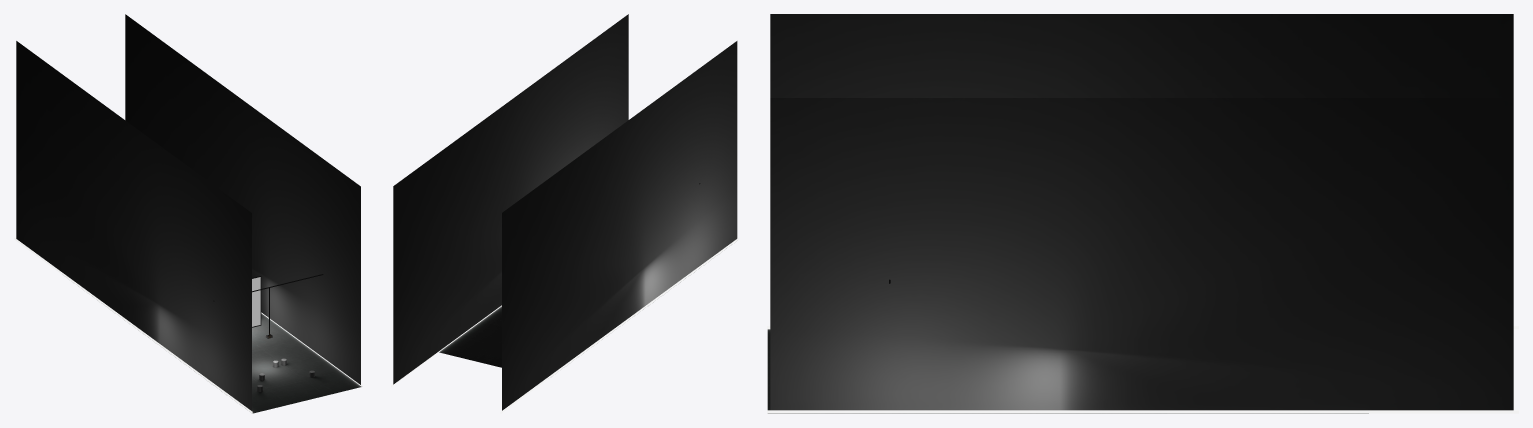
Rendered from final-scene_wall-updated-fixed.glb.
3 views of the same model, side by side, from view 1: azimuth 30°, elevation 25°; view 2: azimuth 150°, elevation 25°; view 3: azimuth 270°, elevation 25° (orthographic). The views are drawn at different scales.
Visible parts, largest first — view 1: Cylinder.007, JS_Matched_Screen; view 2: Cylinder.007; view 3: Cylinder.007.
Part boxes in pixels (left/top/right/bottom): Cylinder.007: left=14, top=14, right=362, bottom=413; JS_Matched_Screen: left=252, top=276, right=261, bottom=327; Cylinder.007: left=391, top=14, right=738, bottom=413; Cylinder.007: left=767, top=14, right=1518, bottom=413.
Size of the model in its own units: 1.38 by 2.33 by 5.03.
9 materials, 7 textured.
